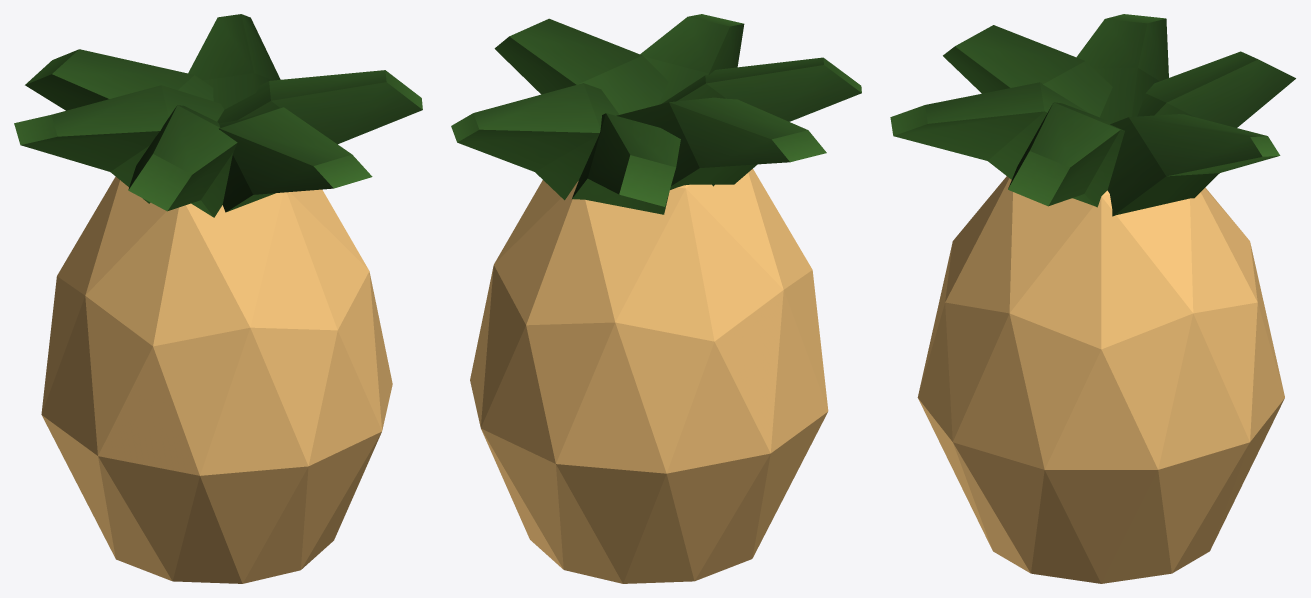
The model's file is GAMEJAMHERO - Prop(Pineapple).fbx.
3 views of the same model, side by side, from view 1: azimuth 30°, elevation 25°; view 2: azimuth 150°, elevation 25°; view 3: azimuth 270°, elevation 25° (orthographic). The views are drawn at different scales.
Parts seen in each view (by area): view 1: Icosphere; view 2: Icosphere; view 3: Icosphere.
Boxes of the visible parts, box(x1,y1,x2,y2) form: Icosphere: box(14, 14, 422, 583); Icosphere: box(451, 14, 861, 583); Icosphere: box(890, 14, 1295, 583).
Bounding box in the file's own units: 50.62 × 62.73 × 48.73.
Materials: 1 (1 with a texture image).
